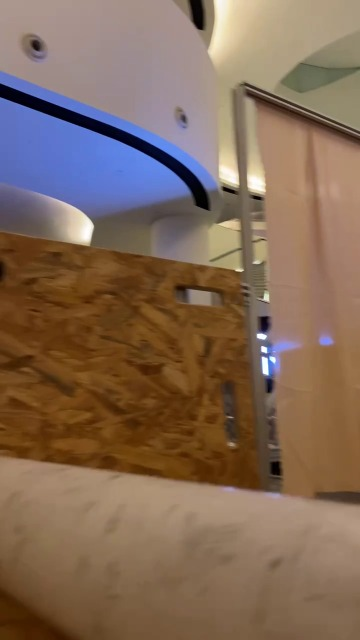curtain: (234, 83, 360, 506)
